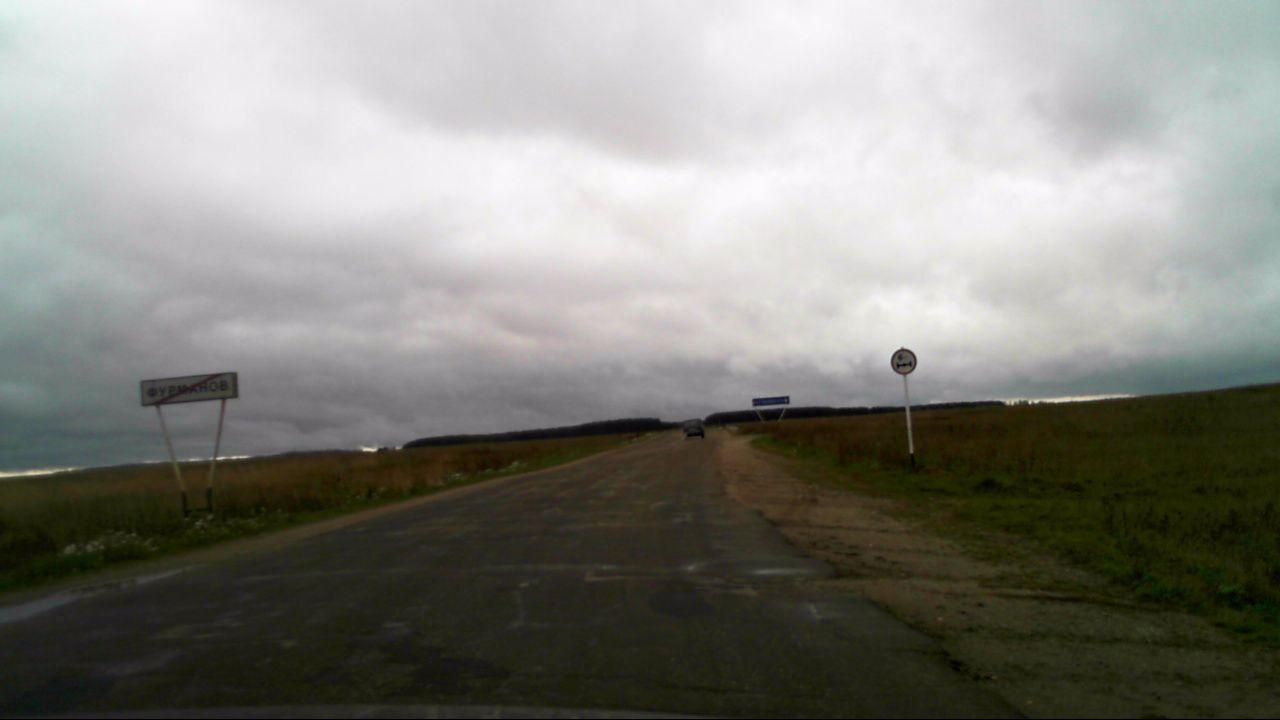3_12: (889, 346, 918, 375)
5_24_1: (141, 367, 239, 407)
